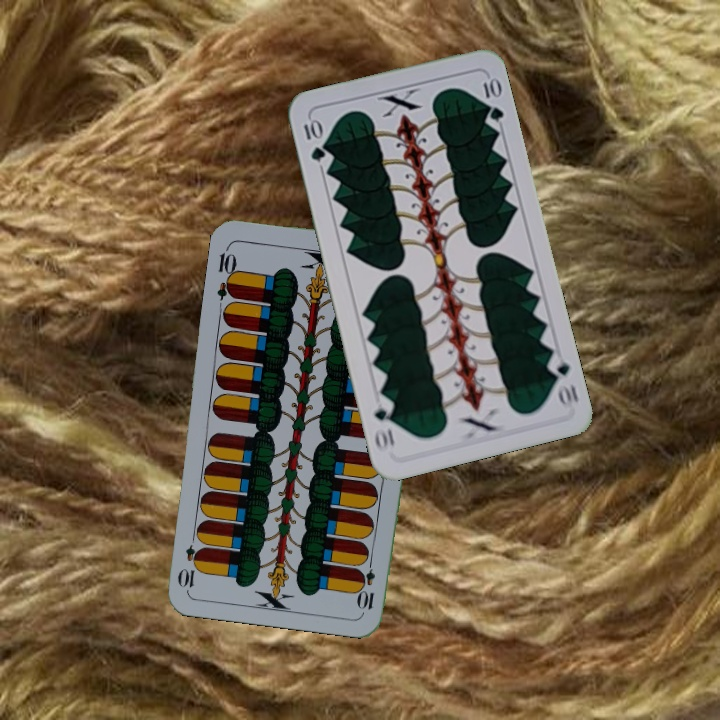E10: (213, 242, 240, 302), (357, 553, 378, 612)
G10: (544, 351, 581, 409), (299, 115, 328, 164)
